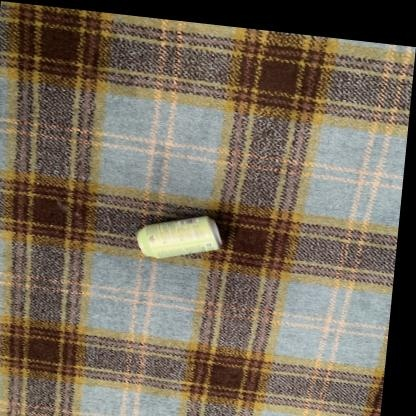trash: (137, 216, 221, 258)
